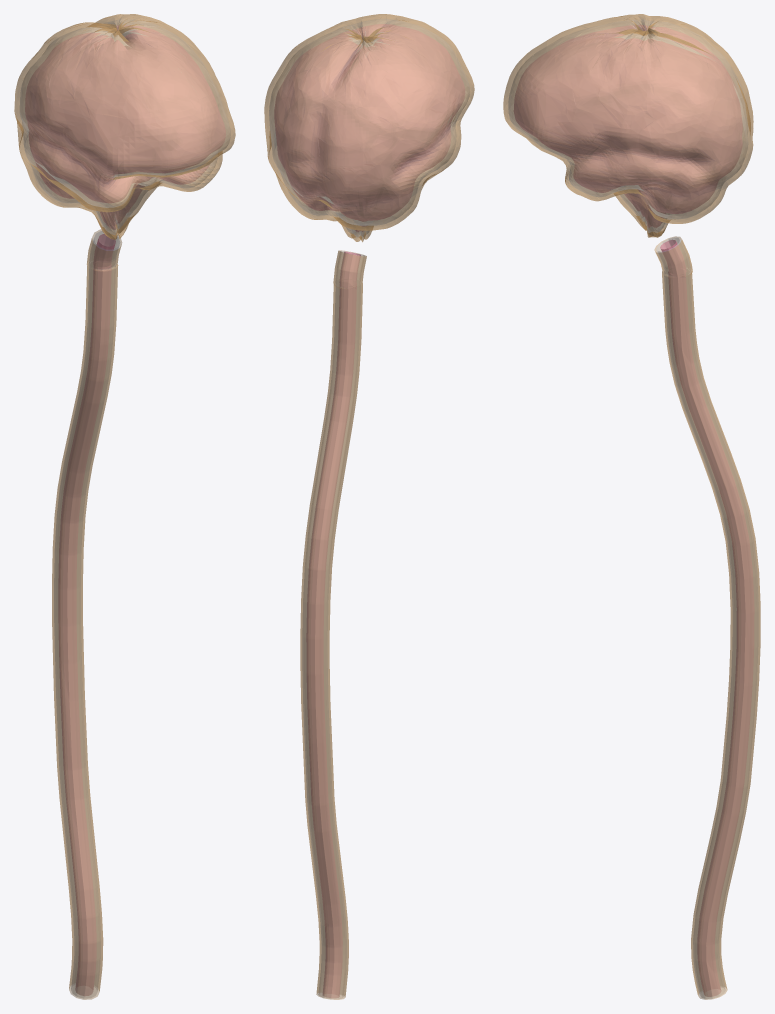
Rendered from bodyparts3d-brain-mening.glb.
3 renders of one model, left to right at view 1: azimuth 30°, elevation 25°; view 2: azimuth 150°, elevation 25°; view 3: azimuth 270°, elevation 25°, orthographic. The views are drawn at different scales.
Parts seen in each view (by area): view 1: dura, arachnoid, pia; view 2: dura, arachnoid, pia; view 3: dura, arachnoid, pia.
Boxes of the visible parts, x1,y1,x2,y2 form: dura: (14, 14, 235, 999); arachnoid: (20, 19, 230, 998); pia: (25, 25, 225, 995); dura: (264, 14, 474, 999); arachnoid: (269, 19, 469, 998); pia: (274, 24, 465, 997); dura: (503, 14, 760, 999); arachnoid: (508, 19, 758, 998); pia: (514, 25, 754, 996).
Bounding box in the file's own units: 0.1548 × 0.836 × 0.201.
